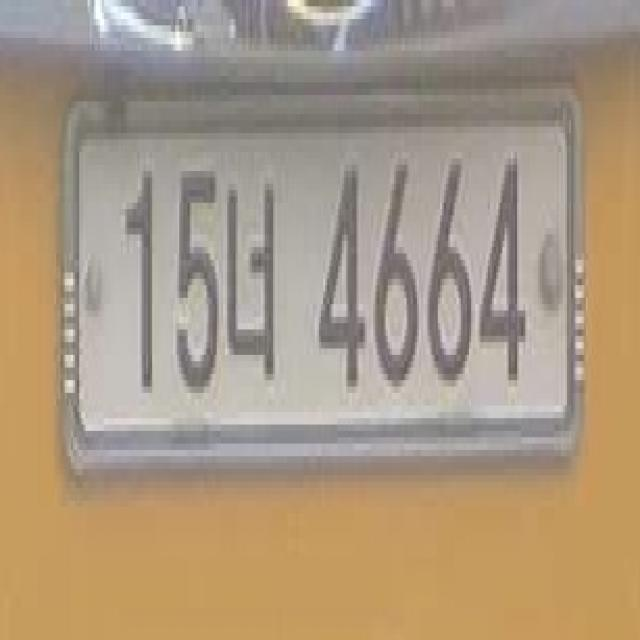1: (119, 146, 162, 406)
4: (475, 120, 536, 406), (313, 133, 371, 406)
5: (169, 146, 223, 399)
6: (426, 126, 478, 424), (371, 127, 425, 406)
license_plate: (56, 88, 590, 500)
neo: (225, 152, 282, 399)
